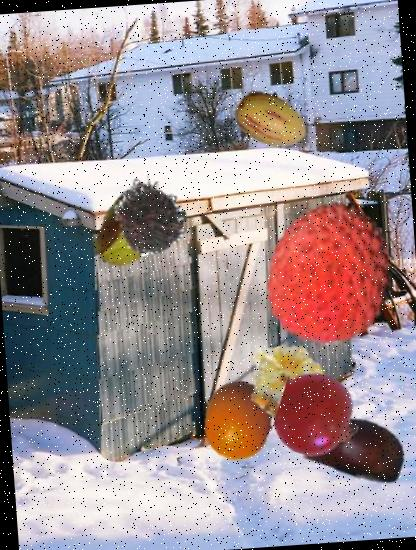Carambula: (86, 184, 176, 274)
Chestnut: (304, 394, 411, 500)
Grapefruit: (196, 378, 282, 462)
Lychee: (252, 194, 407, 350)
Pepino: (232, 78, 312, 158)
Physalis: (237, 331, 344, 438)
Rambutan: (106, 171, 194, 260)
Redcurrant: (274, 372, 363, 460)
